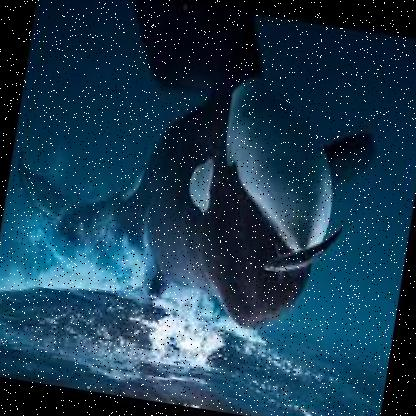killer_whale: (16, 7, 379, 367)
